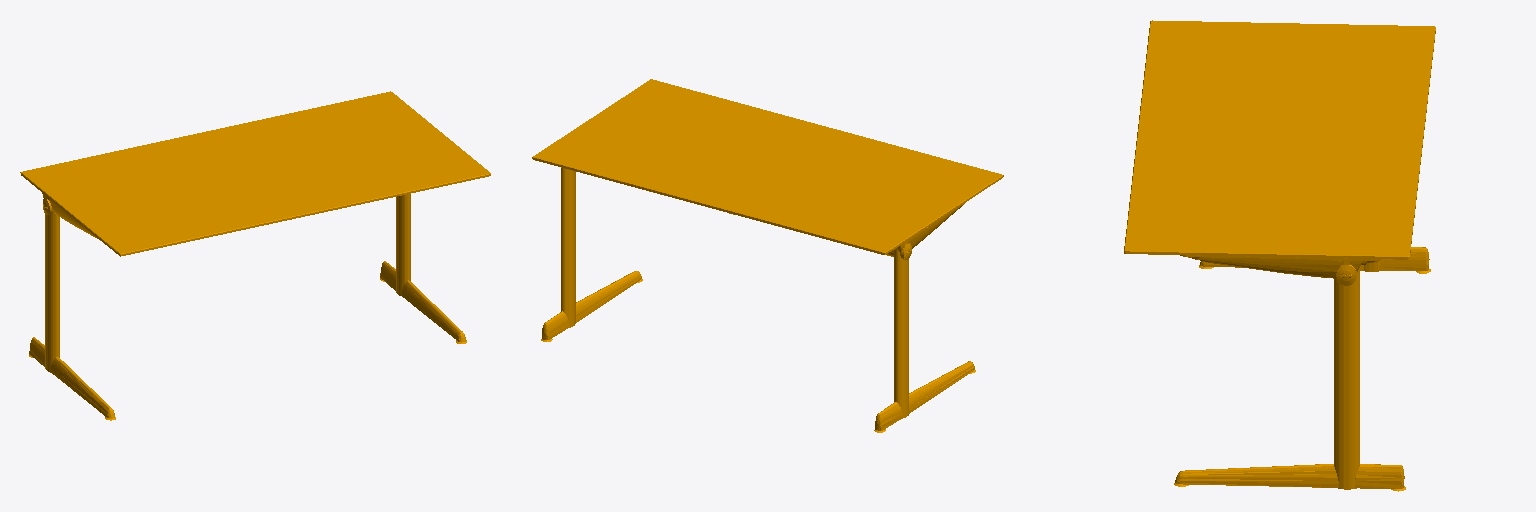
URDF robot description (04379243_ea9e7db452d2df55d42ec7e303174a87_object1):
<robot name="04379243_ea9e7db452d2df55d42ec7e303174a87_object1">
	<link name="_name">
		<visual>
			<origin xyz="-2.0267776608155037 1.0719646448639564 0.6365754501480138" rpy="0.0 0.0 0.0" />
			<geometry>
				<mesh filename="04379243_ea9e7db452d2df55d42ec7e303174a87_object1.obj" />
			</geometry>
		</visual>
		<collision>
			<origin rpy="0.0 0.0 0.0" xyz="-2.0267776608155037 1.0719646448639564 0.6365754501480138" />
			<geometry>
				<mesh filename="04379243_ea9e7db452d2df55d42ec7e303174a87_object1_vhacd.obj" />
			</geometry>
		</collision>
		<inertial>
			<origin rpy="0 0 0" xyz="0 0 0" />
			<mass value="1.0" />
			<inertia ixx="0.001" ixy="0.0" ixz="0.0" iyy="0.001" iyz="0.0" izz="0.001" />
		</inertial>
	</link>
</robot>

--- Facts derived from the render (not from the file) ---
The picture shows the robot from 3 angles, left to right: view 1: azimuth 30°, elevation 25°; view 2: azimuth 150°, elevation 25°; view 3: azimuth 270°, elevation 25°; orthographic projection.
Model 04379243_ea9e7db452d2df55d42ec7e303174a87_object1 with 1 links and 0 joints (none), rooted at _name, posed every joint at zero.
Visible links, largest first — view 1: _name; view 2: _name; view 3: _name.
Boxes of the visible links, left/top/right/bottom form: _name: left=20, top=91, right=490, bottom=420; _name: left=532, top=79, right=1003, bottom=432; _name: left=1124, top=20, right=1435, bottom=491.
Bounding box of the posed robot: 1.5 × 0.8394 × 0.7078 m (x, y, z).
1 mesh visuals loaded from 1 distinct referenced files (1 OBJ).
